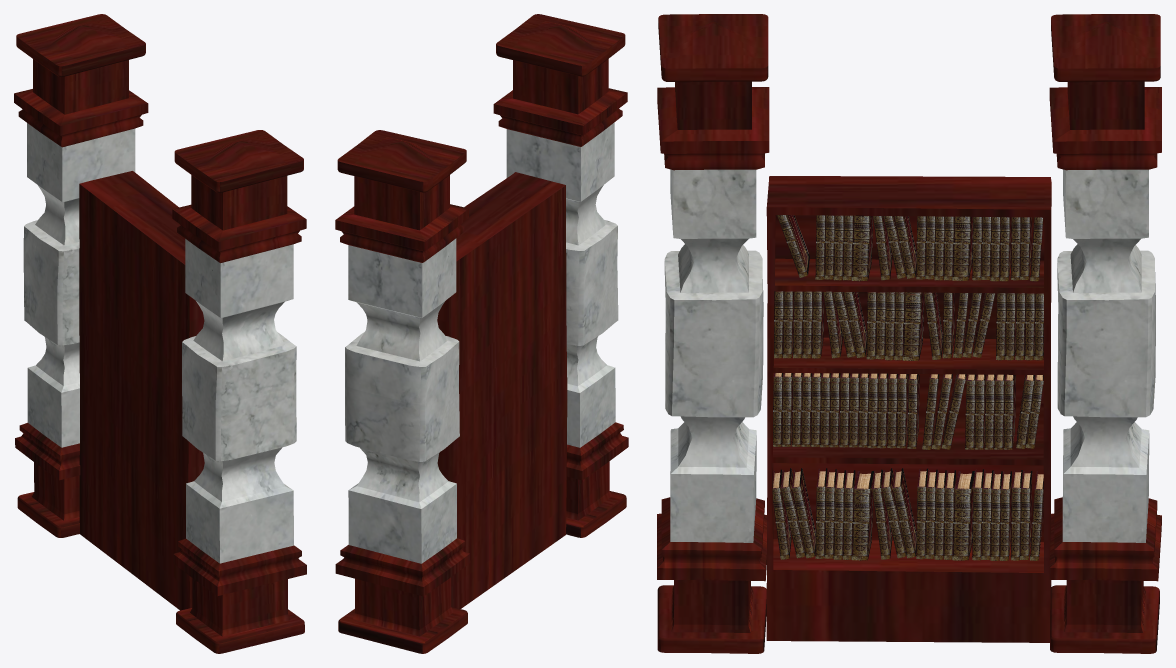
File: Capstone_Bookcase.fbx
3 views of the same model, side by side, from view 1: azimuth 30°, elevation 25°; view 2: azimuth 150°, elevation 25°; view 3: azimuth 270°, elevation 25° (orthographic). The views are drawn at different scales.
Parts seen in each view (by area): view 1: polySurface87; view 2: polySurface87; view 3: polySurface87.
Part boxes in pixels (x1,y1,x2,y2): polySurface87: [14, 14, 306, 653]; polySurface87: [335, 14, 628, 653]; polySurface87: [657, 14, 1161, 653].
Size of the model in its own units: 4.1 by 21.01 by 15.96.
4 materials, 4 textured.
